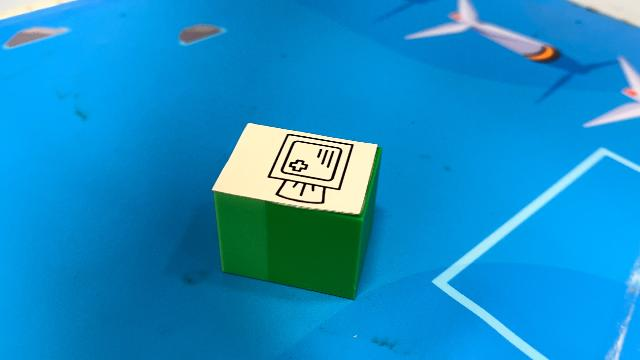napkin: (210, 120, 384, 300)
